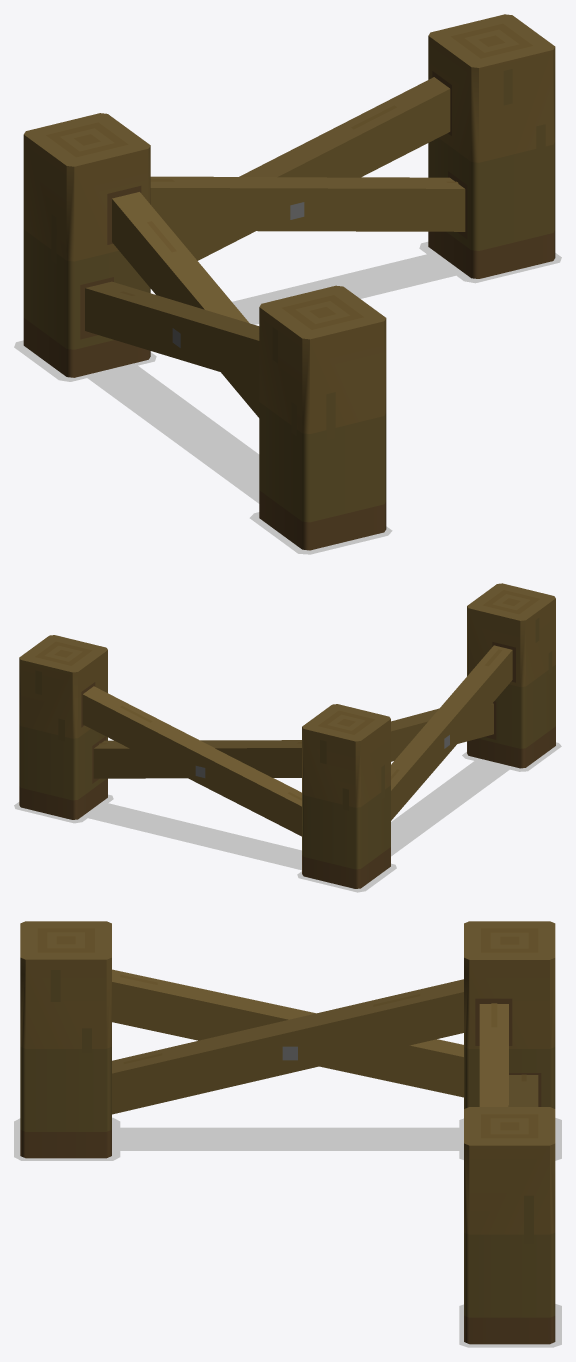
Rendered from MG_fence_wood_L_small.fbx.
3 views of the same model, one above another, from view 1: azimuth 30°, elevation 25°; view 2: azimuth 150°, elevation 25°; view 3: azimuth 270°, elevation 25° (orthographic). The views are drawn at different scales.
Parts seen in each view (by area): view 1: model, ground; view 2: model, ground; view 3: model, ground.
Part boxes in pixels (x1,y1,x2,y2): model: [23, 14, 555, 550]; ground: [14, 241, 561, 554]; model: [19, 583, 555, 888]; ground: [14, 742, 561, 892]; model: [20, 921, 555, 1344]; ground: [14, 1117, 561, 1347].
Bounding box in the file's own units: 7.64 × 3.08 × 7.66.
